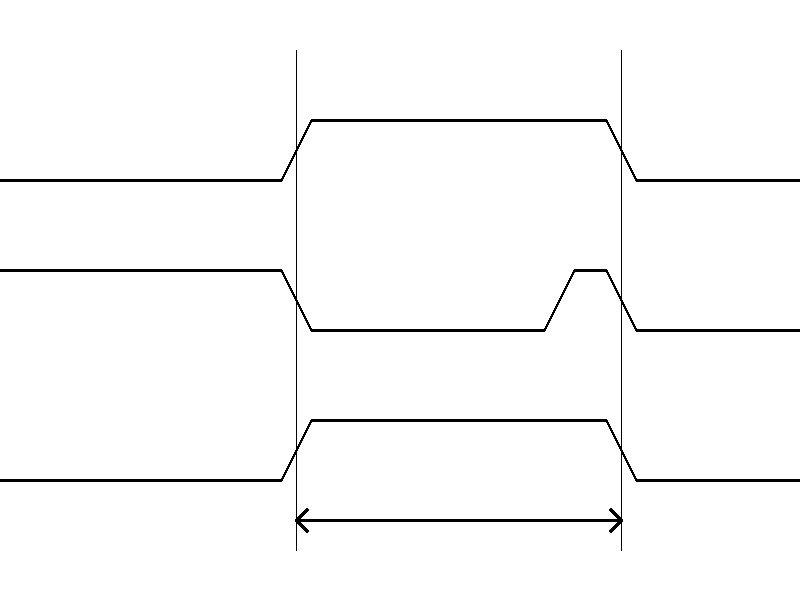double_arrow: (296, 505, 621, 535)
